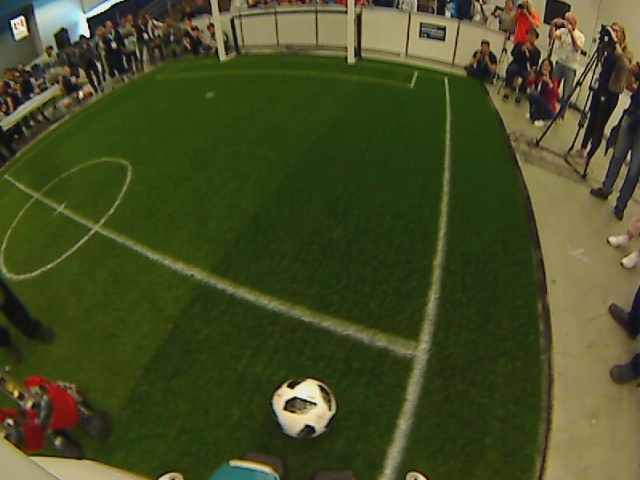ball: (269, 375, 336, 444)
